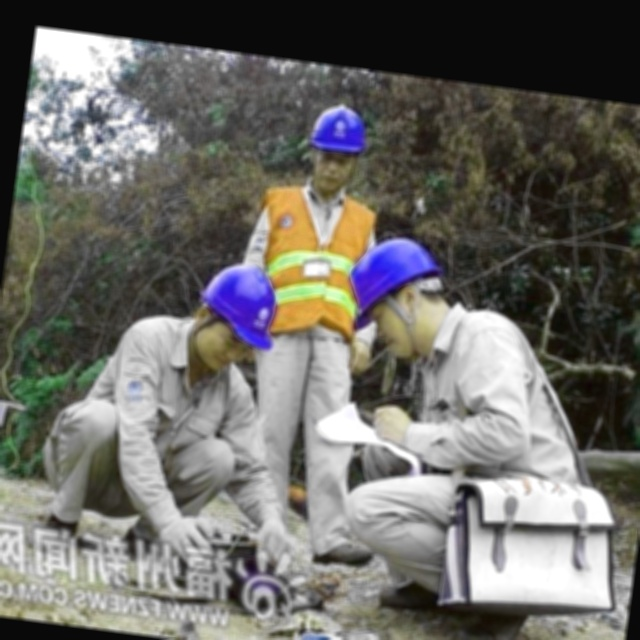Con_Chaleco: (257, 183, 372, 343)
